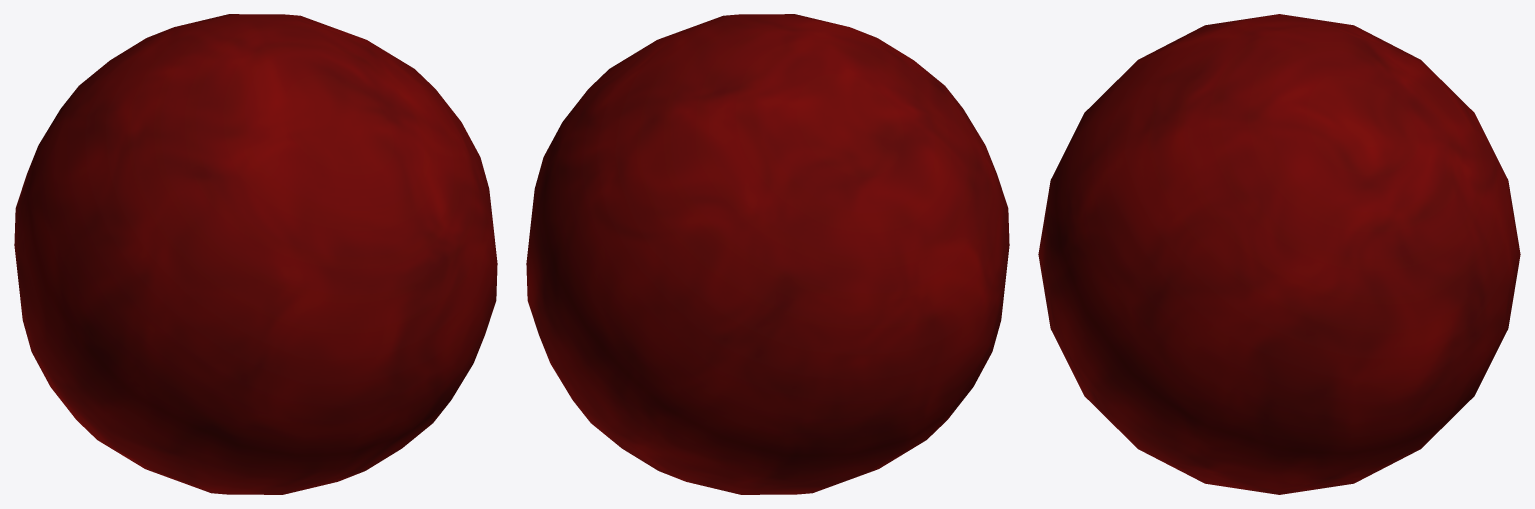
File: armoryGame.glb
3 renders of one model, left to right at view 1: azimuth 30°, elevation 25°; view 2: azimuth 150°, elevation 25°; view 3: azimuth 270°, elevation 25°, orthographic.
Visible parts, largest first — view 1: CoronaVirus; view 2: CoronaVirus; view 3: CoronaVirus.
Boxes of the visible parts, x1=… form: CoronaVirus: x1=14, y1=14, x2=497, y2=494; CoronaVirus: x1=526, y1=14, x2=1009, y2=494; CoronaVirus: x1=1038, y1=14, x2=1520, y2=494.
Bounding box in the file's own units: 0.2179 × 0.2196 × 0.2183.
Materials: 1 (1 with a texture image).
